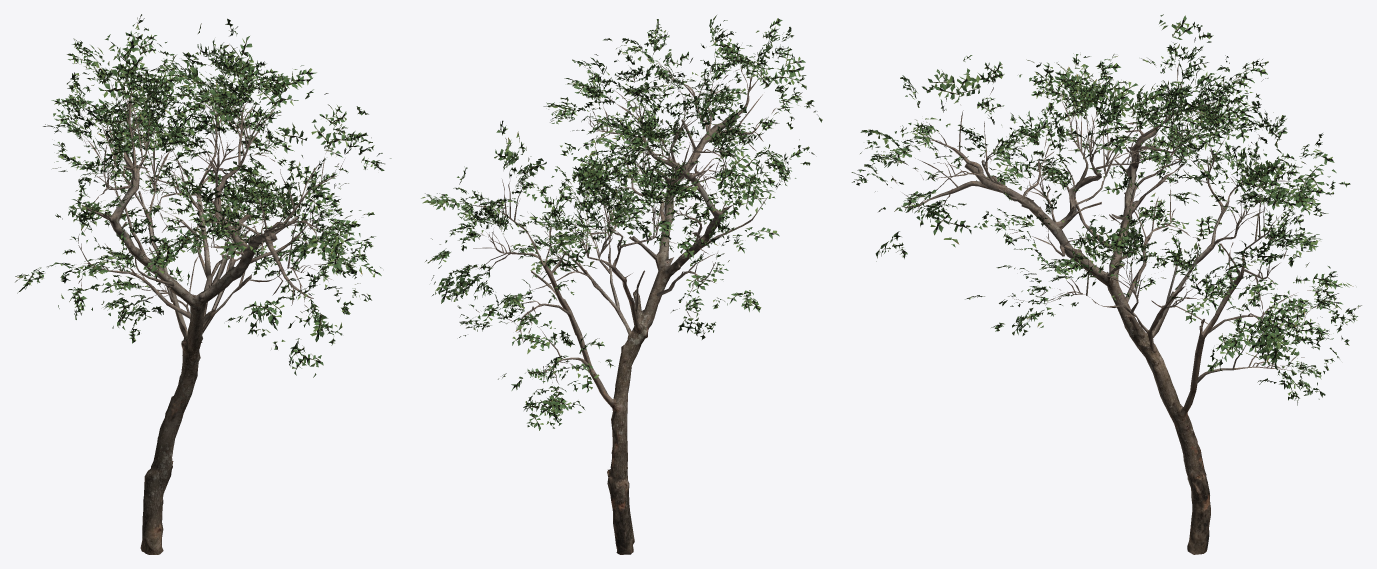
Rendered from tree_small_02.glb.
The picture shows the model from 3 angles, left to right: view 1: azimuth 30°, elevation 25°; view 2: azimuth 150°, elevation 25°; view 3: azimuth 270°, elevation 25°; orthographic projection. The views are drawn at different scales.
Visible parts, largest first — view 1: tree_small_02_LOD0; view 2: tree_small_02_LOD0; view 3: tree_small_02_LOD0.
Part boxes in pixels (x1,y1,x2,y2): tree_small_02_LOD0: [15, 14, 391, 554]; tree_small_02_LOD0: [421, 15, 822, 554]; tree_small_02_LOD0: [851, 14, 1361, 554].
Size of the model in its own units: 2.89 by 4.55 by 4.22.
Materials: 3 (3 with a texture image).
